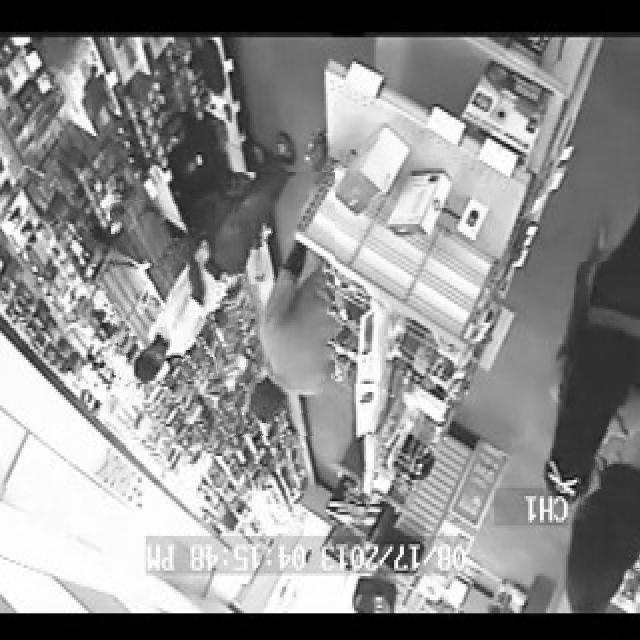normal: (229, 172, 335, 436), (576, 261, 640, 570), (112, 200, 215, 383)
